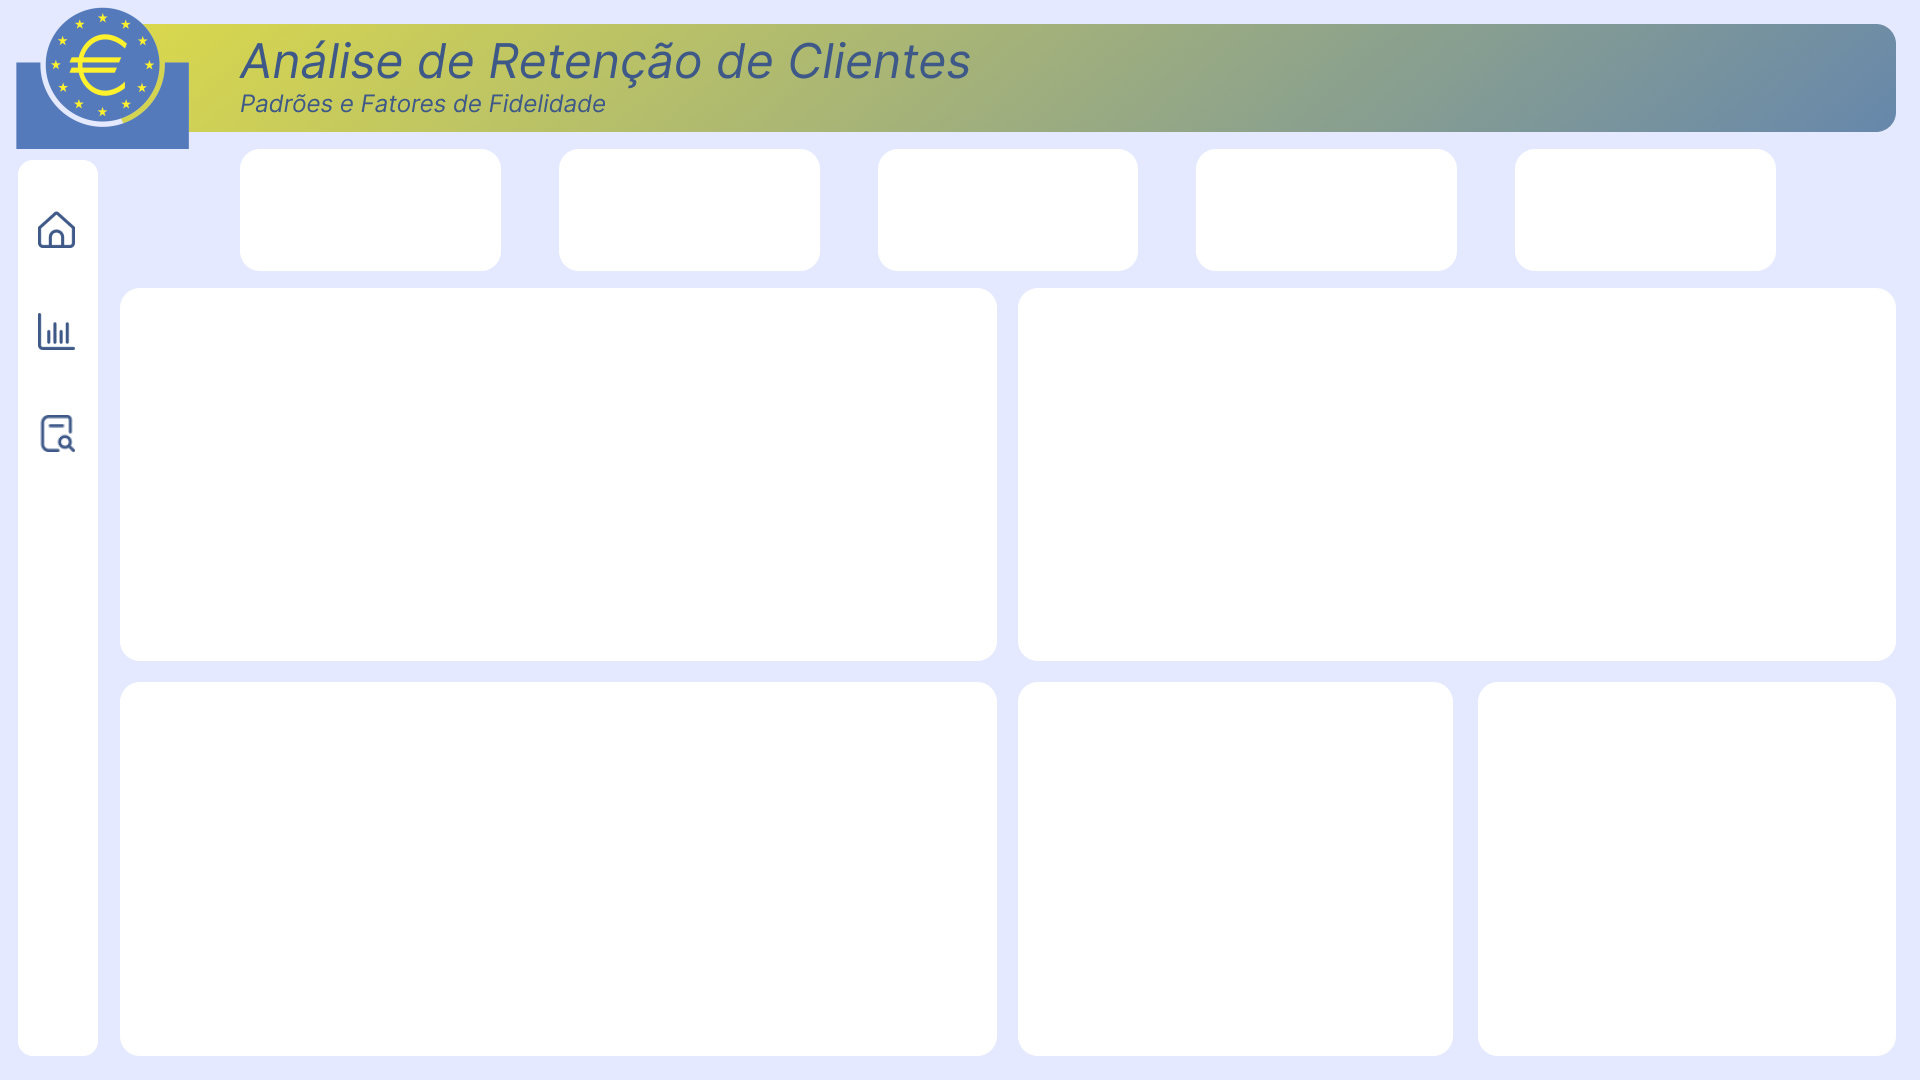

The dashboard page shown, as its layout file describes it:
{"tool":"powerbi","page":{"name":"Home Page","canvas":[1280,720],"ordinal":0},"visuals":[{"type":"card","title":"Média Pontuação","fields":{"Values":["Medidas.MédiaCredito"]},"box":[809.5,105,160.5,68.8],"z":0},{"type":"card","title":"Média Permanência","fields":{"Values":["Medidas.MediaPermanecia"]},"box":[592.5,105.1,159.5,68.4],"z":1000},{"type":"card","title":"Total Contas","fields":{"Values":["Medidas.TotalClientes"]},"box":[167.1,105.1,162.1,67.1],"z":2000},{"type":"slicer","fields":{"Values":["dClientes.StatusCliente"]},"box":[866.7,22.6,206.5,57.3],"z":3000},{"type":"clusteredColumnChart","title":"Contas Ativas x Contas Canceladas","fields":{"Category":["dClientes.PaisOrigem"],"Y":["Medidas.TotalAbandono","Medidas.TotalClientesBanco"]},"box":[82,199.1,577.9,235.3],"z":4000},{"type":"card","title":"% Churn Rate","fields":{"Values":["Medidas.TotalAbandono"]},"box":[376,105.1,167.1,68.4],"z":5000},{"type":"lineClusteredColumnComboChart","title":"Contas por Gênero e Faixa etária","fields":{"Category":["dClientes.Faixa Etária"],"Series":["dClientes.Genero"],"Y":["Medidas.TotalClientes"],"Y2":["Medidas.TotalMembrosAtivos"]},"box":[691.3,199.1,568.2,235.3],"z":6000},{"type":"donutChart","title":"% de Produtos Utilizados","fields":{"Category":["dClientes.Genero"],"Y":["Medidas.TaxaProdutosUtilizados"]},"box":[989.3,458.4,281.1,242.5],"z":7000},{"type":"scatterChart","title":"Média Salarial Mensal ","fields":{"X":["dClientes.Idade"],"Y":["Medidas.TotalSaldoClientes"],"Series":["dClientes.PaisOrigem"],"Size":["Sum(dClientes.SalarioMensal)"]},"box":[82,458.4,577.9,242.5],"z":8000},{"type":"pieChart","fields":{"Category":["dClientes.PaisOrigem"],"Y":["Medidas.TotalClientes"]},"box":[433,509,236.8,141.8],"z":9000},{"type":"tableEx","title":"% Produtos por Faixa Etaria","fields":{"Values":["dClientes.Faixa Etária","Medidas.TaxaProdutosUtilizados"]},"box":[691.7,458.7,265.5,191.9],"z":10000},{"type":"slicer","fields":{"Values":["dClientes.Genero"]},"box":[1049.1,22.6,209.5,57.3],"z":11000},{"type":"card","title":"Média Saldo","fields":{"Values":["Medidas.MediaSaldoCliente"]},"box":[1013.3,104.7,173.2,68.5],"z":12000},{"type":"card","title":"% Produtos Utilizados","fields":{"Values":["Medidas.TaxaProdutosUtilizados"]},"box":[732.9,639.4,184.5,62.3],"z":13000}]}

Visuals, with their boxes in screenshot pixels (x1, y1, x2, y2), scaled from the page's 1280x720 canvas onto the 1920x1080 screenshot:
"Média Pontuação" card: l=1214, t=158, r=1455, b=261
"Média Permanência" card: l=889, t=158, r=1128, b=260
"Total Contas" card: l=251, t=158, r=494, b=258
slicer - dClientes.StatusCliente: l=1300, t=34, r=1610, b=120
"Contas Ativas x Contas Canceladas" clusteredColumnChart: l=123, t=299, r=990, b=652
"% Churn Rate" card: l=564, t=158, r=815, b=260
"Contas por Gênero e Faixa etária" lineClusteredColumnComboChart: l=1037, t=299, r=1889, b=652
"% de Produtos Utilizados" donutChart: l=1484, t=688, r=1906, b=1051
"Média Salarial Mensal " scatterChart: l=123, t=688, r=990, b=1051
pieChart - dClientes.PaisOrigem x Medidas.TotalClientes: l=650, t=764, r=1005, b=976
"% Produtos por Faixa Etaria" tableEx: l=1038, t=688, r=1436, b=976
slicer - dClientes.Genero: l=1574, t=34, r=1888, b=120
"Média Saldo" card: l=1520, t=157, r=1780, b=260
"% Produtos Utilizados" card: l=1099, t=959, r=1376, b=1053
